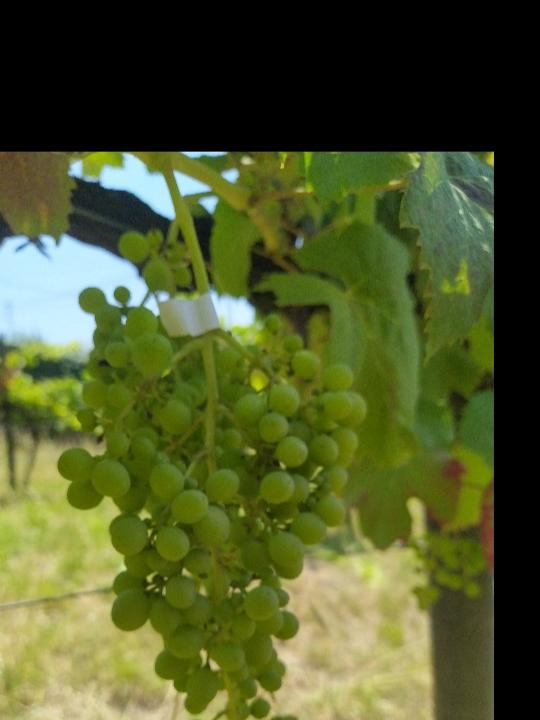grape: (56, 280, 372, 720)
